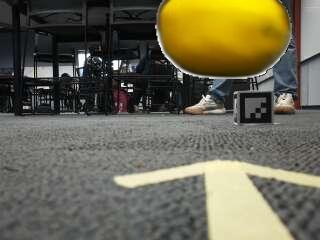lemon: (159, 0, 289, 75)
